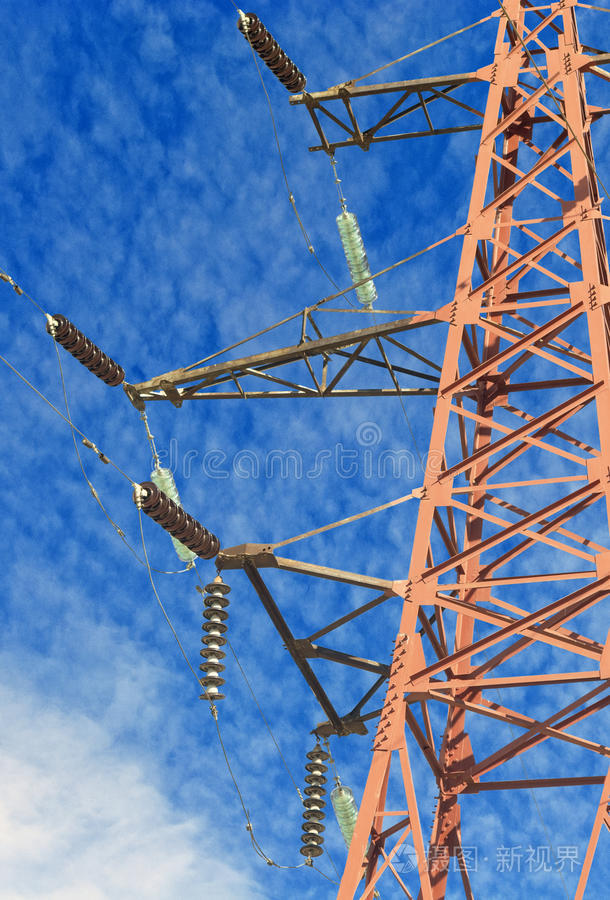insulator: (136, 481, 222, 562), (233, 12, 308, 93), (47, 311, 124, 388), (150, 468, 196, 570), (194, 580, 232, 702), (334, 210, 380, 308), (296, 745, 331, 858), (332, 784, 358, 841)
